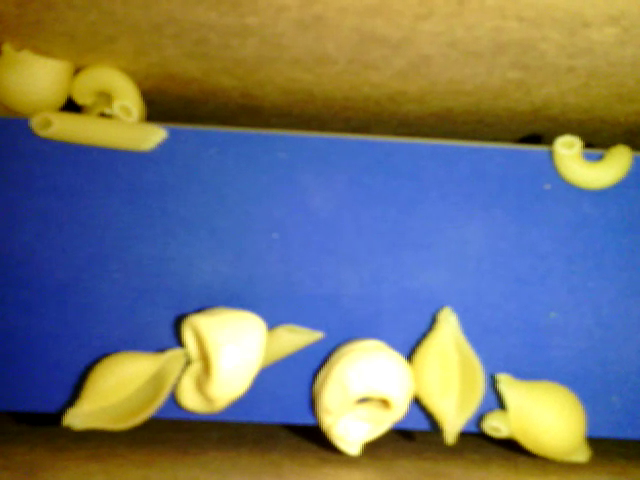elbow: (551, 133, 633, 190), (70, 64, 139, 119), (480, 411, 511, 438)
penne: (30, 110, 167, 152), (261, 323, 324, 369)
shell: (61, 346, 186, 432), (409, 306, 486, 444), (494, 373, 591, 464), (1, 43, 72, 114), (82, 90, 145, 122)
tortellini: (311, 336, 416, 457), (174, 306, 266, 413)
